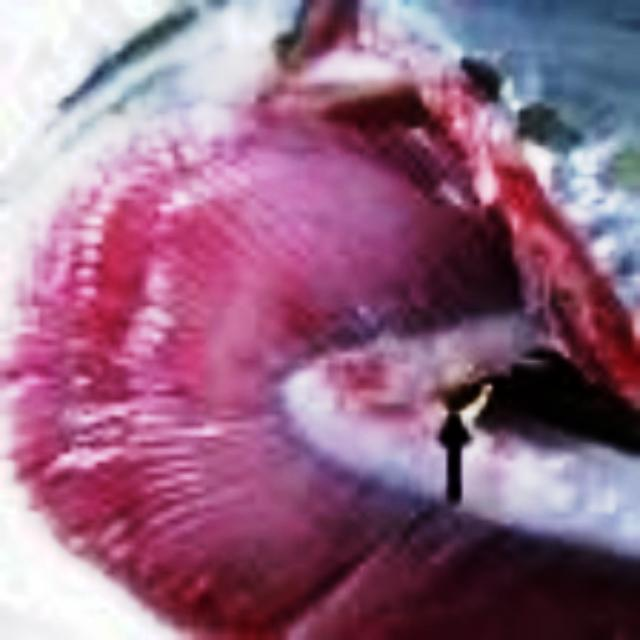Flavobacterium -Bacterial Gill Disease-: (2, 1, 640, 640), (0, 0, 637, 637)
